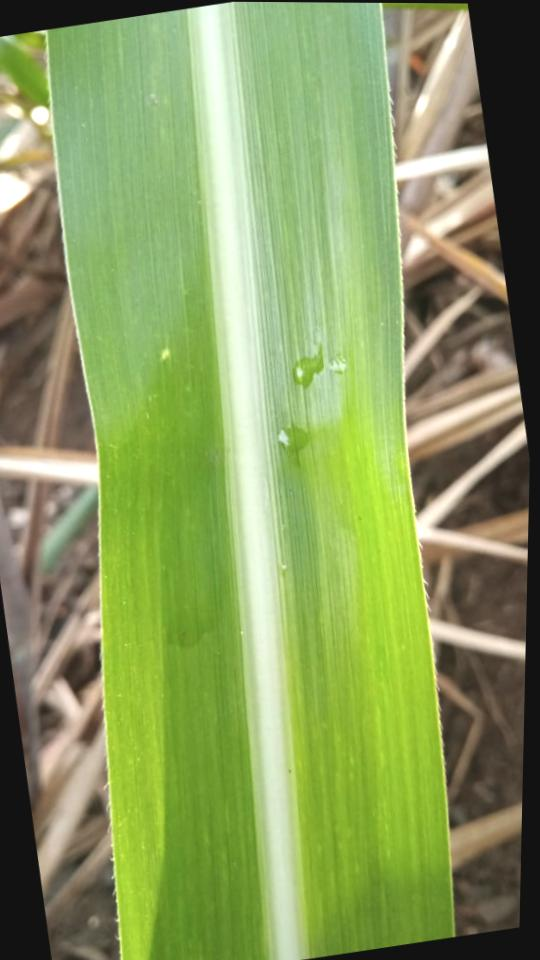Healthy: (47, 2, 452, 960)
